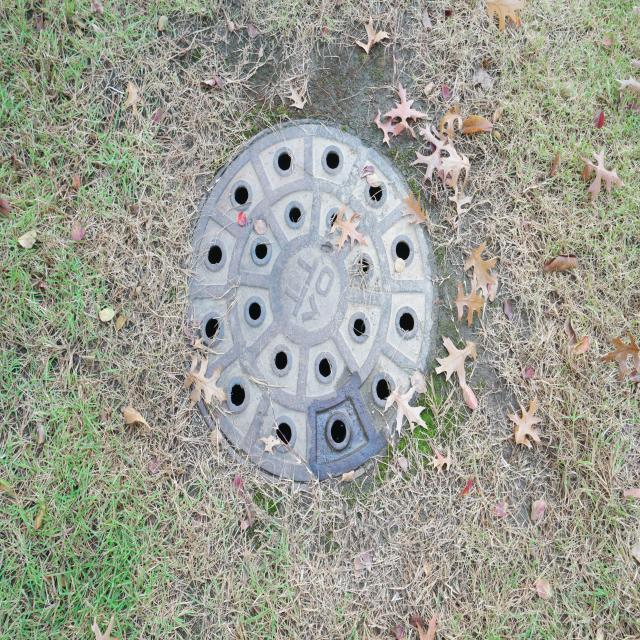manhole: (189, 121, 435, 481)
